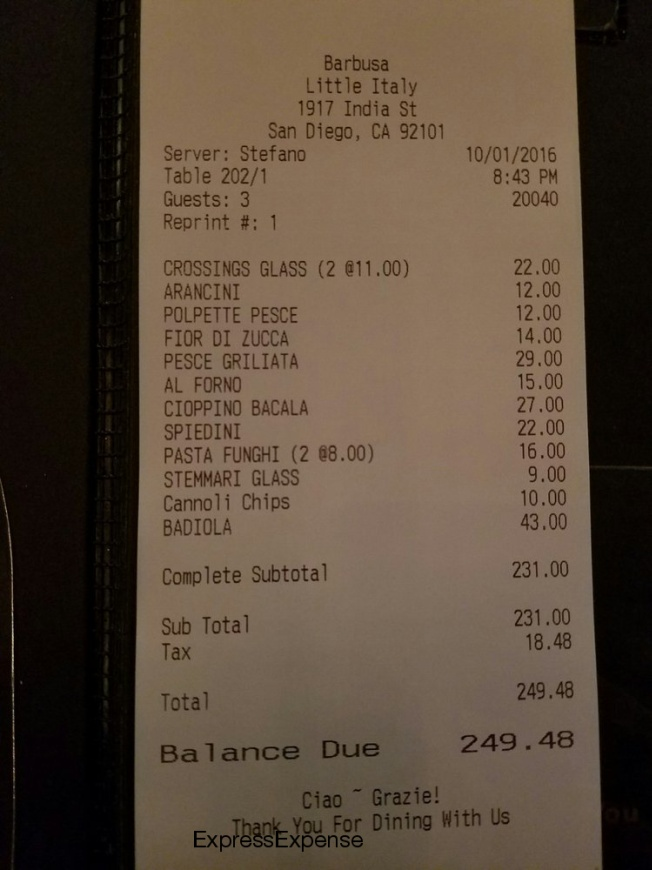Additional details: (219, 779, 524, 833)
Purchase summary: (145, 137, 590, 765)
Receipt: (132, 1, 599, 844)
Shop details: (256, 46, 463, 148)
